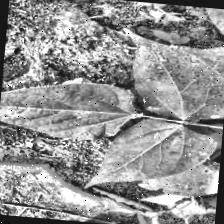ALS: (0, 78, 132, 143), (125, 32, 224, 118), (146, 152, 220, 204)
